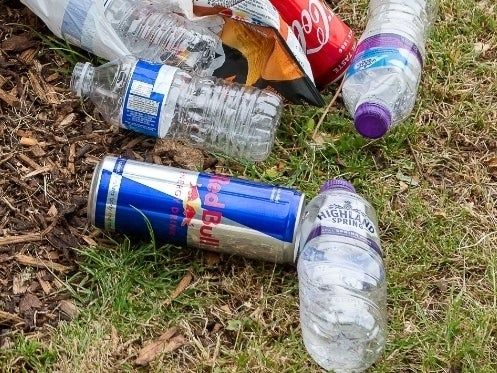metal: (80, 148, 304, 270), (254, 0, 363, 89)
plastic: (46, 37, 284, 164), (295, 171, 413, 373), (343, 0, 433, 141), (51, 0, 236, 67)
trash: (213, 0, 324, 113)
